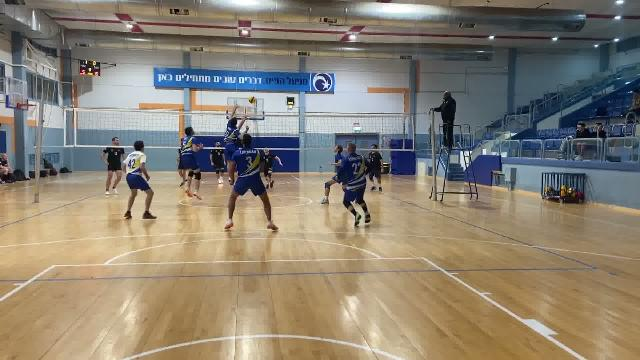ball: (248, 95, 258, 105)
